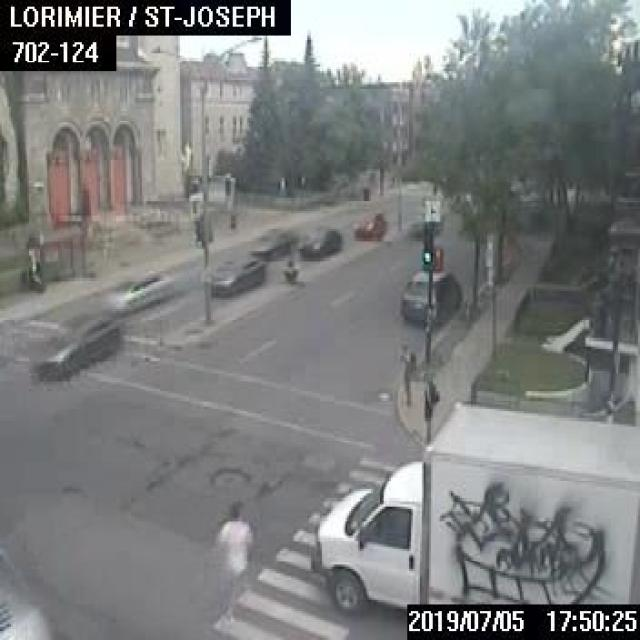pedestrian: (212, 501, 253, 627), (397, 342, 414, 404)
vehicle: (310, 400, 638, 618), (27, 311, 118, 380), (400, 271, 460, 323), (100, 269, 164, 311), (208, 255, 264, 295), (247, 226, 296, 257), (296, 224, 341, 256), (352, 210, 384, 235), (406, 215, 442, 235)
